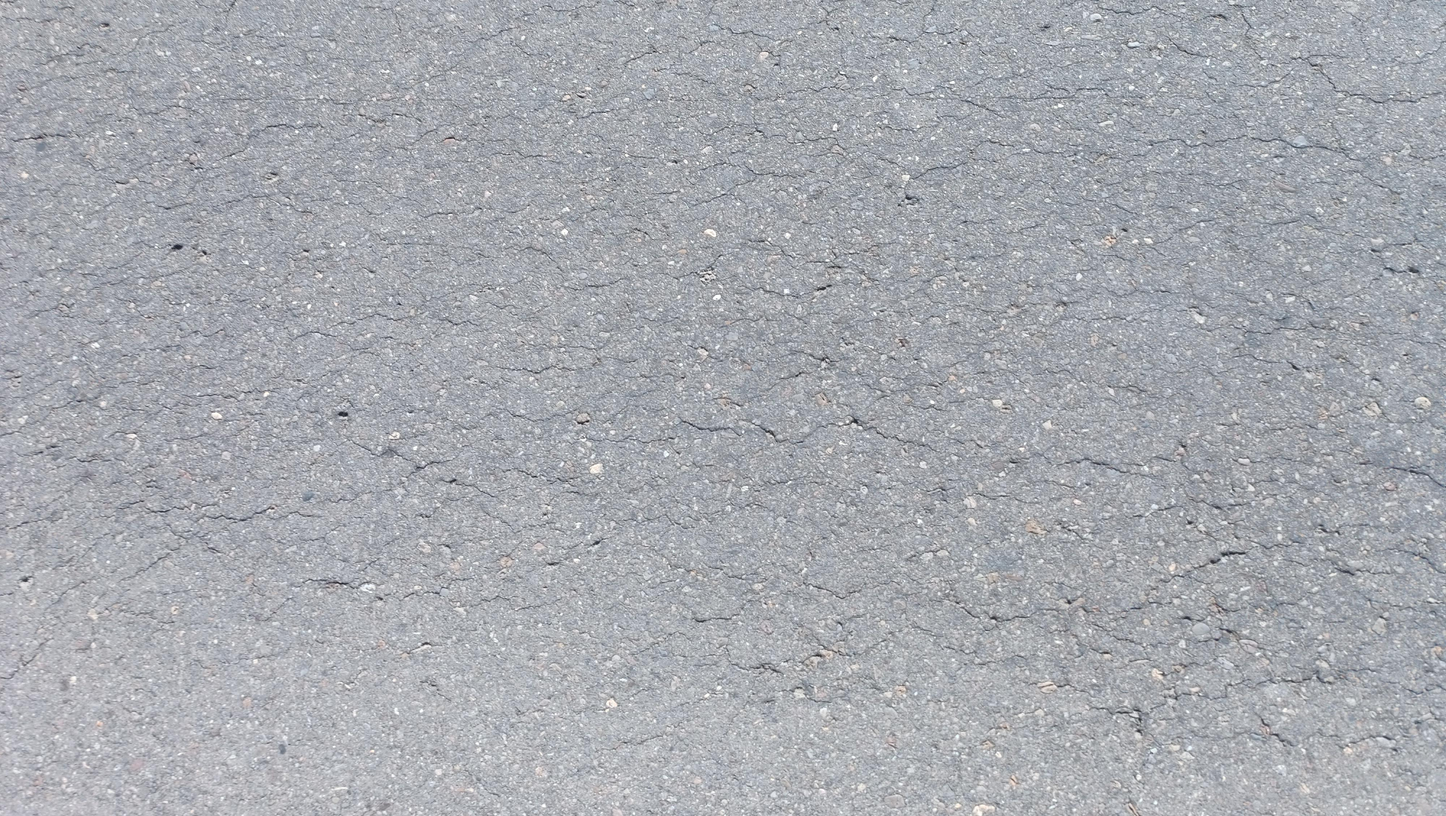PIEL DE COCODRILO: (0, 0, 1444, 772)
